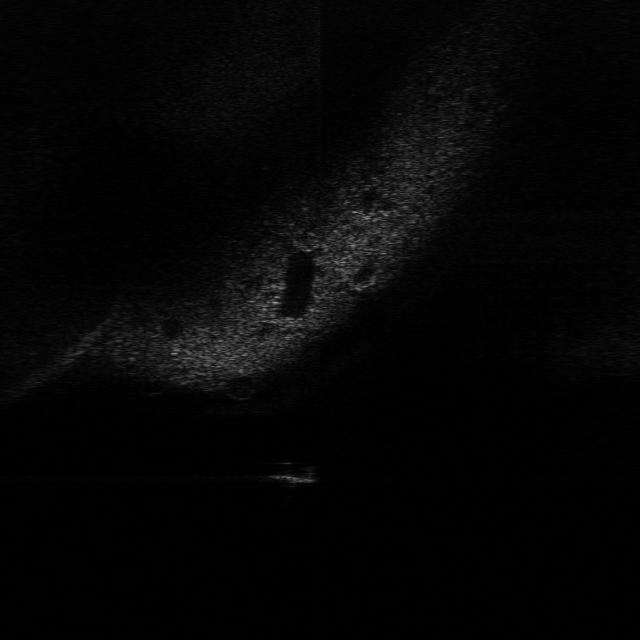cube: (267, 459, 321, 491)
